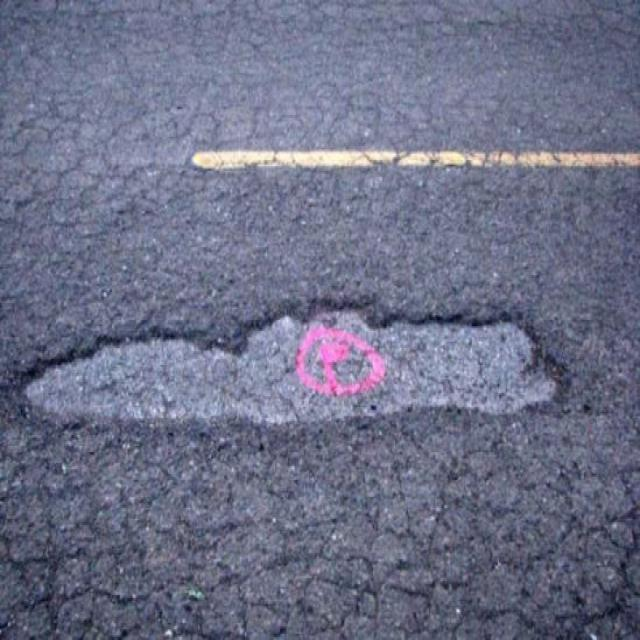pothole: (14, 284, 569, 444)
